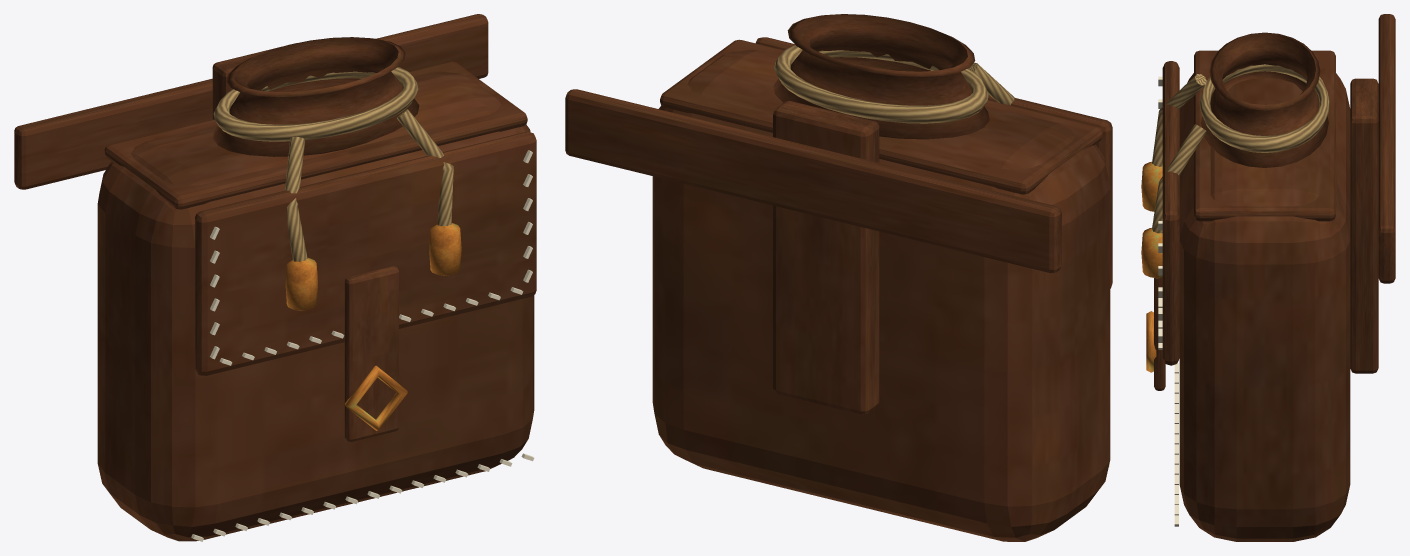
Rendered from pouch.glb.
The picture shows the model from 3 angles, left to right: view 1: azimuth 30°, elevation 25°; view 2: azimuth 150°, elevation 25°; view 3: azimuth 270°, elevation 25°; orthographic projection. The views are drawn at different scales.
Parts seen in each view (by area): view 1: pouch_body, pouch_flap, pouch_neck_gather, pouch_belt_stub, pouch_top_panel, pouch_buckle_strap, pouch_drawstring, pouch_stitches_flap, pouch_cord_end_L, pouch_cord_end_R, pouch_toggle_R, pouch_toggle_L (+3 smaller); view 2: pouch_body, pouch_belt_stub, pouch_belt_loop, pouch_neck_gather, pouch_top_panel, pouch_drawstring, pouch_flap, pouch_cord_end_L; view 3: pouch_body, pouch_neck_gather, pouch_belt_loop, pouch_top_panel, pouch_flap, pouch_belt_stub, pouch_drawstring, pouch_cord_end_R, pouch_cord_end_L, pouch_toggle_R, pouch_buckle_strap, pouch_stitches_body (+3 smaller).
Boxes of the visible parts, x1,y1,x2,y2 form: pouch_body: [97, 71, 534, 541]; pouch_flap: [195, 132, 536, 375]; pouch_neck_gather: [213, 37, 419, 156]; pouch_belt_stub: [14, 14, 488, 189]; pouch_top_panel: [104, 61, 527, 209]; pouch_buckle_strap: [344, 266, 398, 441]; pouch_drawstring: [213, 67, 418, 141]; pouch_stitches_flap: [210, 150, 532, 365]; pouch_cord_end_L: [285, 136, 307, 261]; pouch_cord_end_R: [396, 109, 453, 226]; pouch_toggle_R: [429, 223, 461, 275]; pouch_toggle_L: [285, 257, 317, 310]; pouch_body: [652, 50, 1110, 541]; pouch_belt_stub: [565, 89, 1061, 273]; pouch_belt_loop: [773, 101, 879, 414]; pouch_neck_gather: [773, 14, 989, 139]; pouch_top_panel: [660, 39, 1102, 194]; pouch_drawstring: [774, 45, 988, 123]; pouch_flap: [756, 37, 1112, 288]; pouch_cord_end_L: [968, 62, 1015, 105]; pouch_body: [1179, 63, 1350, 541]; pouch_neck_gather: [1201, 32, 1328, 167]; pouch_belt_loop: [1350, 78, 1378, 373]; pouch_top_panel: [1194, 50, 1335, 221]; pouch_flap: [1162, 61, 1179, 365]; pouch_belt_stub: [1378, 14, 1395, 283]; pouch_drawstring: [1199, 64, 1329, 152]; pouch_cord_end_R: [1152, 124, 1206, 233]; pouch_cord_end_L: [1152, 74, 1206, 166]; pouch_toggle_R: [1141, 228, 1162, 278]; pouch_buckle_strap: [1154, 277, 1165, 390]; pouch_stitches_body: [1174, 363, 1178, 526].
Size of the model in its own units: 0.36 by 0.312 by 0.179.
4 materials, 3 textured.
